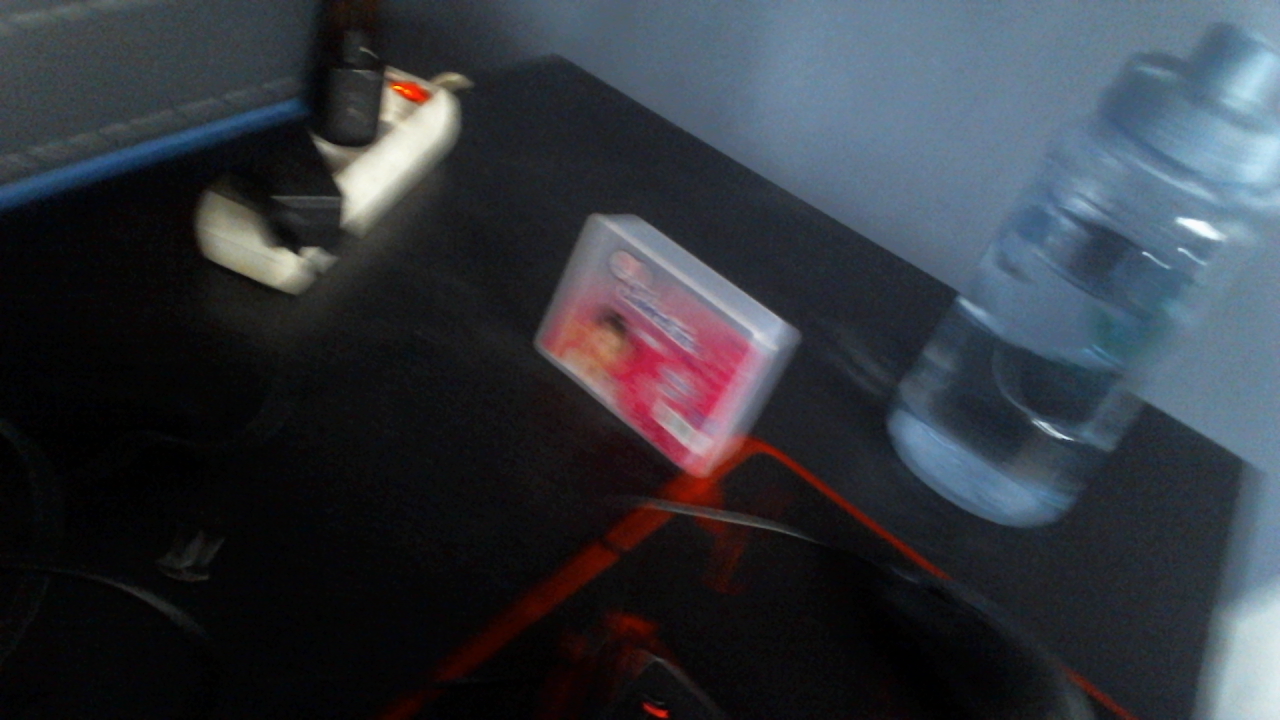Selection: (510, 189, 818, 506)
